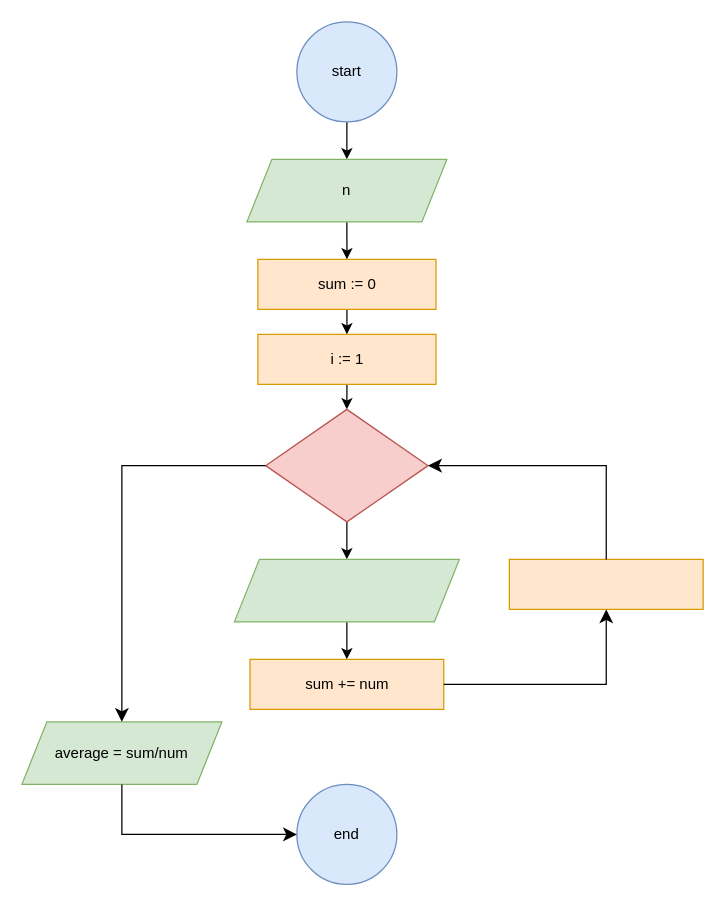
This 725x906 diagram has some shape labels left out. Here are the shapes that lost their labels. From the top down, the centre of each, then its label:
point 346,465: i <= n
point 346,590: num
point 605,583: i++
